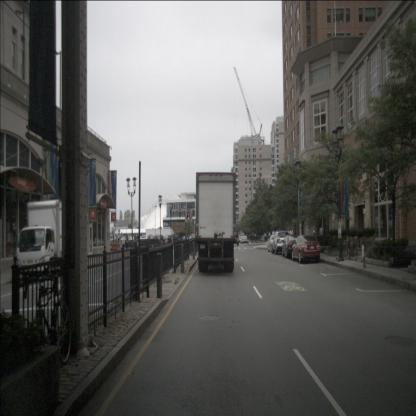human-pedestrian-adult: (318, 225, 324, 245), (289, 228, 294, 244), (126, 233, 129, 250), (268, 230, 272, 242), (272, 229, 275, 243), (264, 232, 267, 242)
vehicle-bicycle: (17, 267, 72, 365), (343, 233, 353, 260), (349, 233, 358, 261)
vehicle-car: (292, 235, 321, 264), (282, 234, 301, 258), (272, 230, 290, 255), (268, 234, 282, 252), (241, 235, 249, 244), (234, 232, 239, 246)
vehicle-truck: (16, 199, 84, 287), (196, 172, 236, 274)
